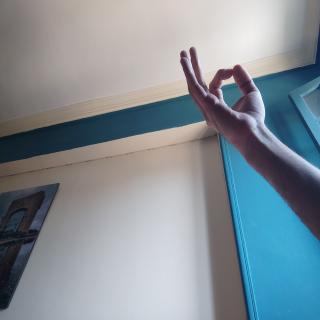Space: (176, 28, 266, 145)
